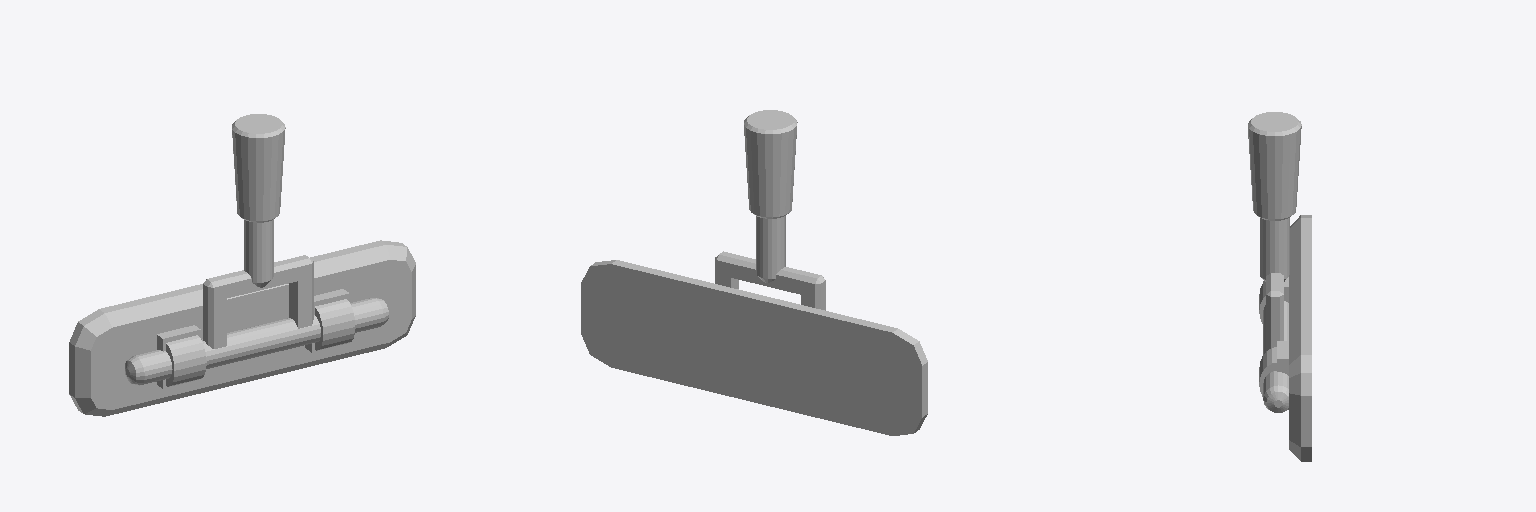
Rendered from lever.obj.
3 renders of one model, left to right at view 1: azimuth 30°, elevation 25°; view 2: azimuth 150°, elevation 25°; view 3: azimuth 270°, elevation 25°, orthographic.
Parts seen in each view (by area): view 1: pCube9; view 2: pCube9; view 3: pCube9.
Part boxes in pixels (x1,y1,x2,y2): pCube9: (69,114,415,416); pCube9: (581,110,927,435); pCube9: (1248,112,1311,461).
Bounding box in the file's own units: 2.86 × 2.15 × 0.4698.